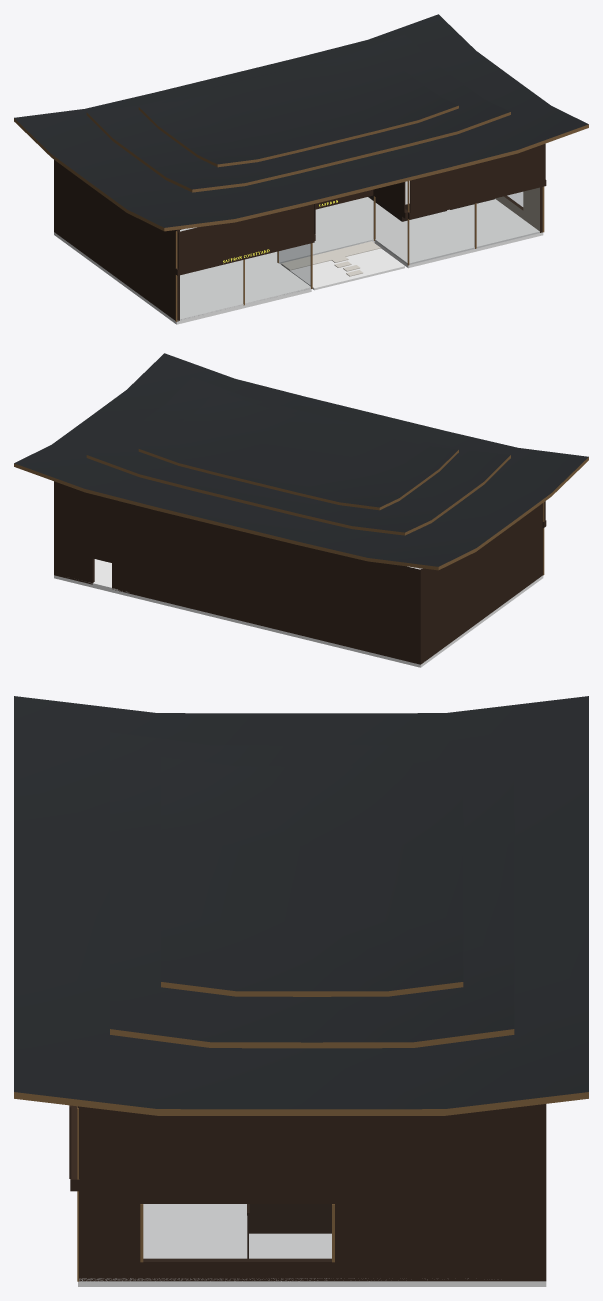
File: saffron_courtyard_lod2.glb
3 renders of one model, top to bottom at view 1: azimuth 30°, elevation 25°; view 2: azimuth 150°, elevation 25°; view 3: azimuth 270°, elevation 25°, orthographic. The views are drawn at different scales.
Visible parts, largest first — view 1: P09_LOD2_BUILDING_EXTERIOR_RoofPlates, P09_LOD2_BUILDING_EXTERIOR_Shell, P09_LOD2_BUILDING_INTERIOR_GroundSlab, P09_LOD2_GLASS_SYSTEM_GFGlass, P09_LOD2_FACADE_DETAILS_Timber, P09_LOD2_GLASS_SYSTEM_GFFrame; view 2: P09_LOD2_BUILDING_EXTERIOR_RoofPlates, P09_LOD2_BUILDING_EXTERIOR_Shell, P09_LOD2_BUILDING_INTERIOR_GroundSlab; view 3: P09_LOD2_BUILDING_EXTERIOR_RoofPlates, P09_LOD2_BUILDING_EXTERIOR_Shell, P09_LOD2_BUILDING_INTERIOR_GroundSlab, P09_LOD2_GLASS_SYSTEM_SideGlass, P09_LOD2_BUILDING_INTERIOR_Screens.
Part boxes in pixels (x1=…): P09_LOD2_BUILDING_EXTERIOR_RoofPlates: x1=14, y1=14, x2=588, y2=231; P09_LOD2_BUILDING_EXTERIOR_Shell: x1=54, y1=160, x2=546, y2=321; P09_LOD2_BUILDING_INTERIOR_GroundSlab: x1=54, y1=197, x2=543, y2=324; P09_LOD2_GLASS_SYSTEM_GFGlass: x1=180, y1=188, x2=539, y2=318; P09_LOD2_FACADE_DETAILS_Timber: x1=178, y1=143, x2=545, y2=269; P09_LOD2_GLASS_SYSTEM_GFFrame: x1=175, y1=186, x2=544, y2=321; P09_LOD2_BUILDING_EXTERIOR_RoofPlates: x1=14, y1=353, x2=588, y2=570; P09_LOD2_BUILDING_EXTERIOR_Shell: x1=54, y1=481, x2=546, y2=664; P09_LOD2_BUILDING_INTERIOR_GroundSlab: x1=54, y1=559, x2=543, y2=667; P09_LOD2_BUILDING_EXTERIOR_RoofPlates: x1=14, y1=696, x2=588, y2=1115; P09_LOD2_BUILDING_EXTERIOR_Shell: x1=70, y1=1104, x2=546, y2=1281; P09_LOD2_BUILDING_INTERIOR_GroundSlab: x1=78, y1=1204, x2=546, y2=1286; P09_LOD2_GLASS_SYSTEM_SideGlass: x1=144, y1=1204, x2=331, y2=1261; P09_LOD2_BUILDING_INTERIOR_Screens: x1=247, y1=1204, x2=331, y2=1258.
Bounding box in the file's own units: 44 × 12.78 × 27.
